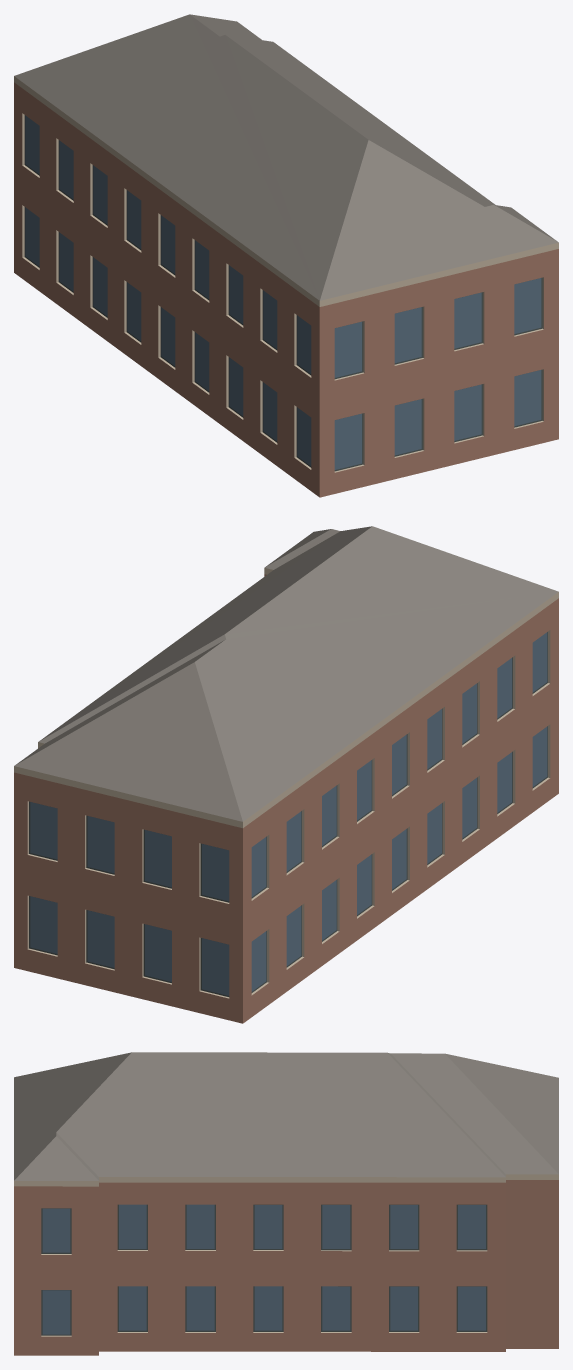
File: dc-au-hamilton-building.detail.glb
The picture shows the model from 3 angles, top to bottom: view 1: azimuth 30°, elevation 25°; view 2: azimuth 150°, elevation 25°; view 3: azimuth 270°, elevation 25°; orthographic projection. The views are drawn at different scales.
Parts seen in each view (by area): view 1: Hamilton Building; view 2: Hamilton Building; view 3: Hamilton Building.
Part boxes in pixels (x1,y1,x2,y2): Hamilton Building: (14,14,558,497); Hamilton Building: (14,526,558,1023); Hamilton Building: (14,1052,558,1355).
Bounding box in the file's own units: 12.86 × 14.43 × 28.56.
